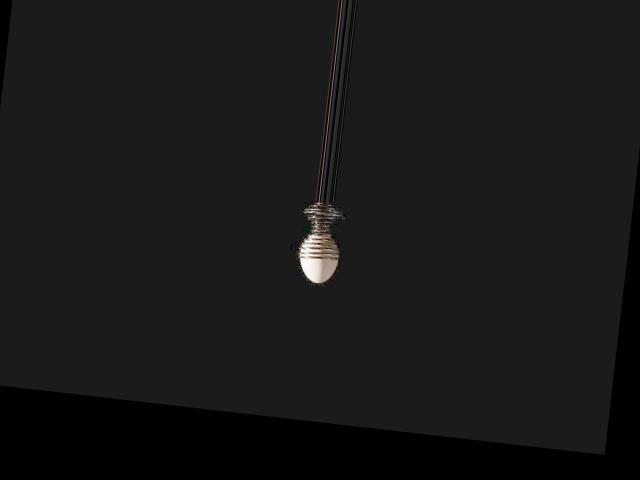egg: (296, 232, 340, 285)
